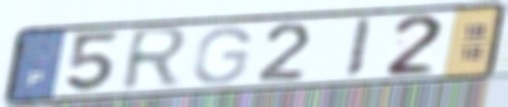2: (383, 13, 448, 79), (256, 20, 315, 84)
5: (65, 28, 125, 95)
G: (190, 24, 254, 87)
I: (341, 16, 376, 81)
R: (117, 24, 193, 95)
